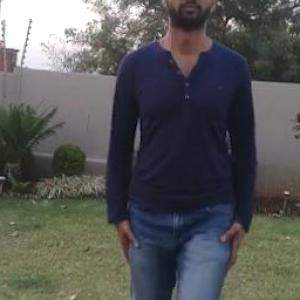follow: (103, 0, 258, 299)
